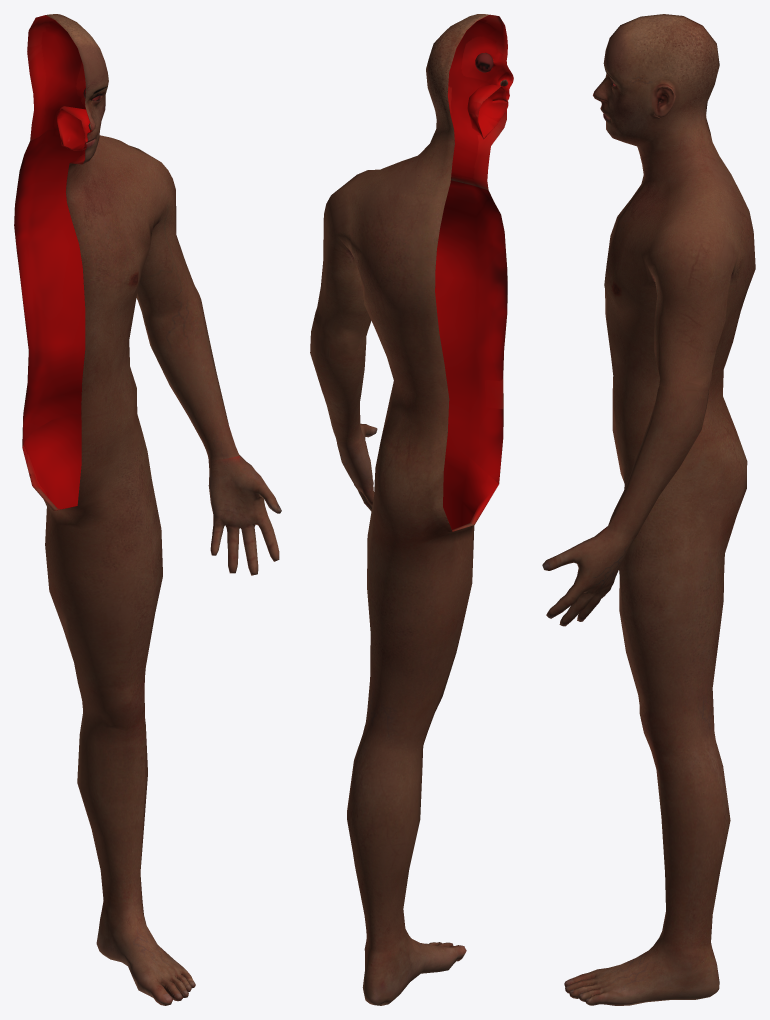
File: HalfSkin.FBX
The picture shows the model from 3 angles, left to right: view 1: azimuth 30°, elevation 25°; view 2: azimuth 150°, elevation 25°; view 3: azimuth 270°, elevation 25°; orthographic projection. The views are drawn at different scales.
Visible parts, largest first — view 1: HalfSkin; view 2: HalfSkin; view 3: HalfSkin.
Boxes of the visible parts, left/top/right/bottom form: HalfSkin: left=14, top=14, right=281, bottom=1005; HalfSkin: left=310, top=14, right=513, bottom=1005; HalfSkin: left=542, top=14, right=755, bottom=1005.
Size of the model in its own units: 289 by 320 by 1565.
